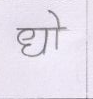o_matra: (52, 11, 63, 50)
